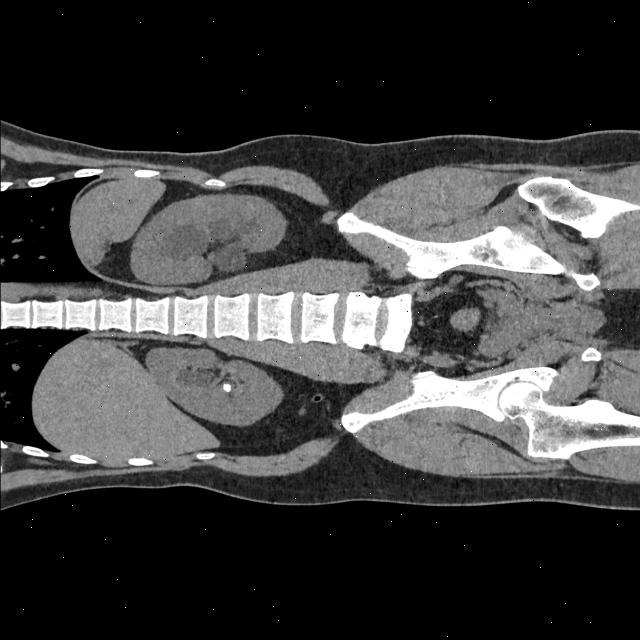kidneystone: (222, 381, 232, 391)
